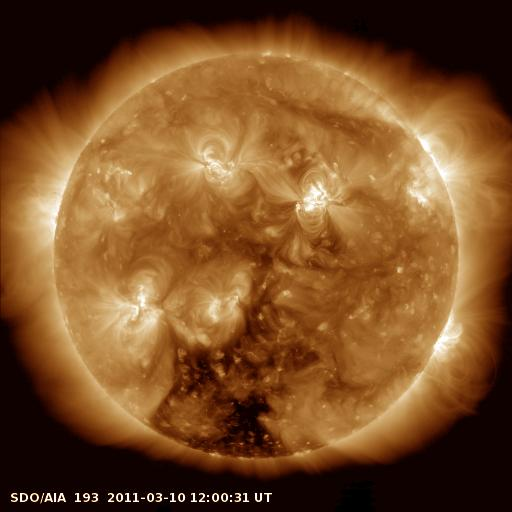coronal_hole: (141, 299, 325, 461)
